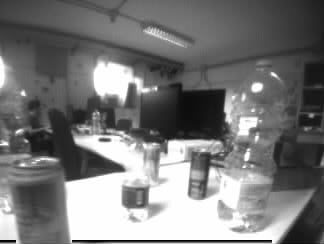Bottle: (218, 61, 285, 228), (123, 130, 149, 218), (91, 108, 101, 135)
Tin can: (11, 157, 70, 244), (188, 148, 207, 200), (144, 142, 161, 183)
